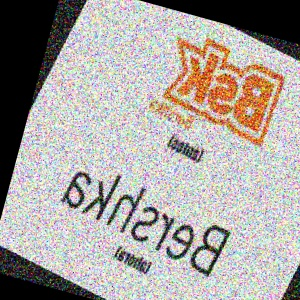bershka: (210, 113, 291, 277), (261, 34, 300, 64)
